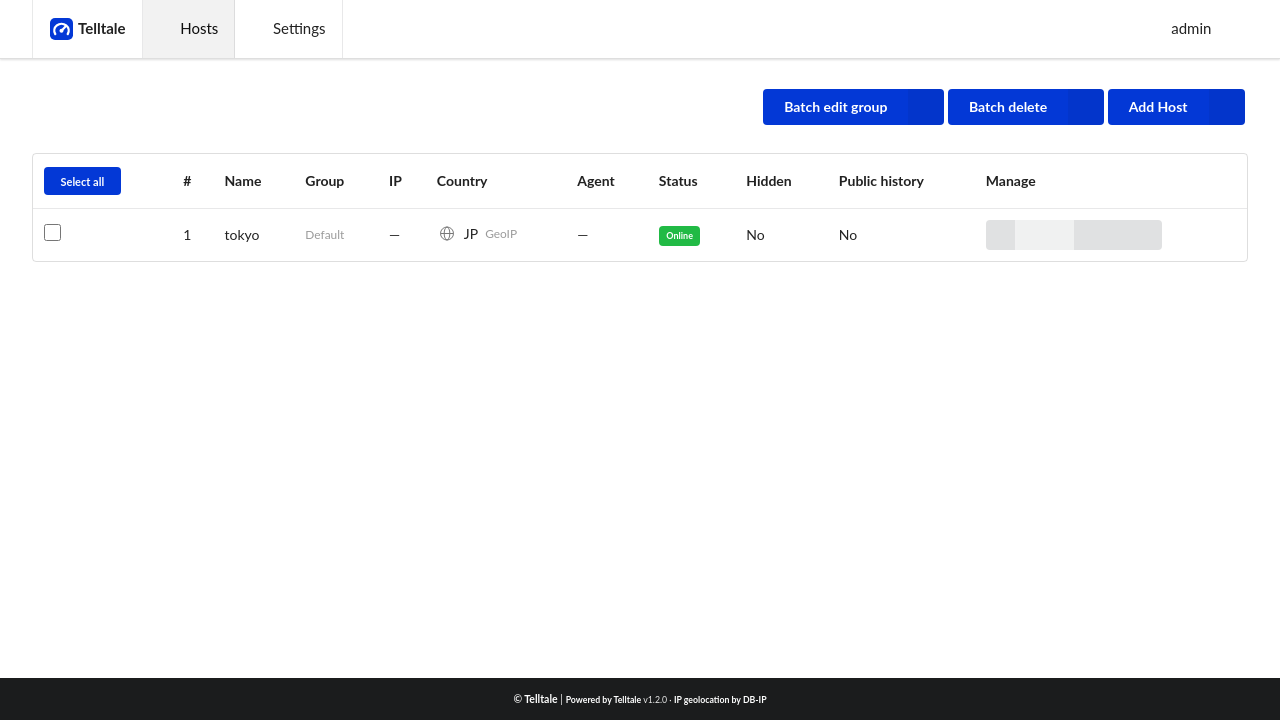
history › opens from the admin table and charts the last hour
The image size is (1280, 720).
Click the button named "History of tokyo" at (1000, 235), box [986,220,1015,250]
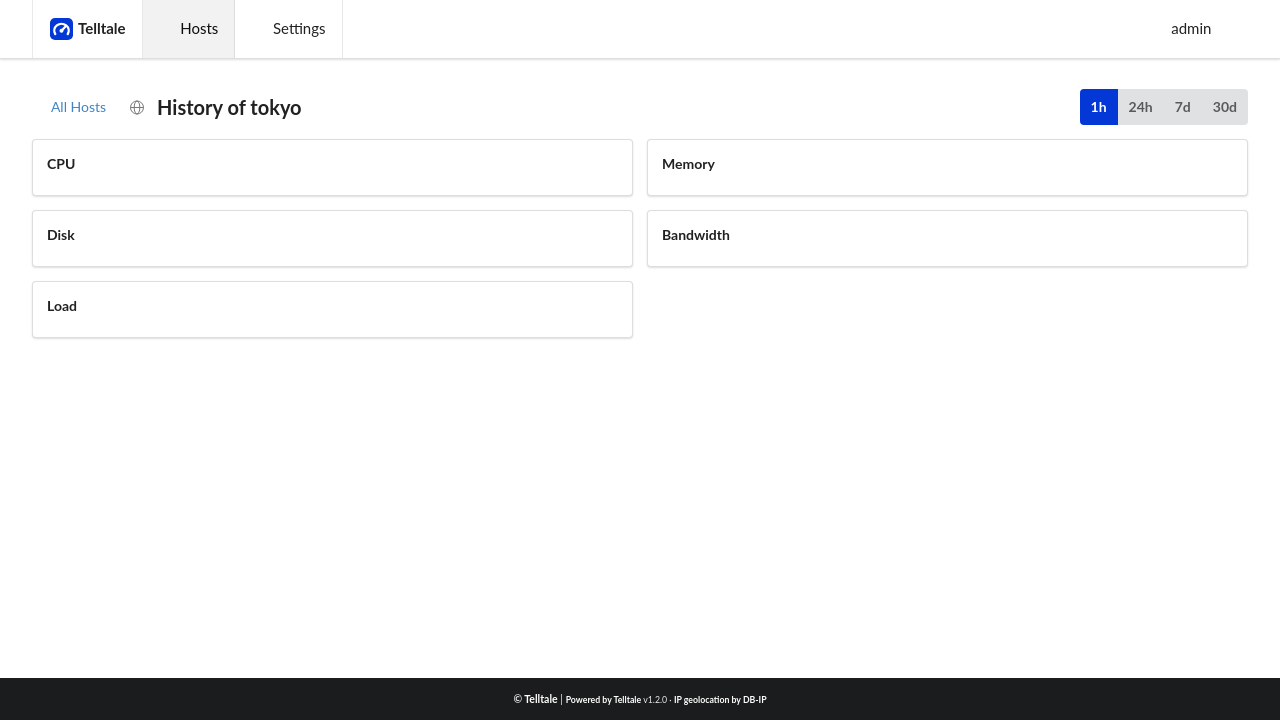
Expected: the heading "History of tokyo" is shown, [127,95,302,119]
Expected: the text "Bandwidth" is shown, [662,226,730,243]
